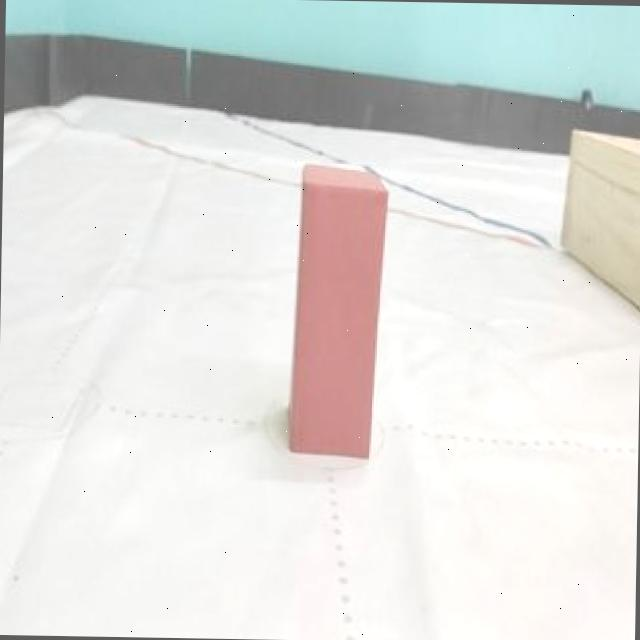redbox: (287, 160, 390, 460)
